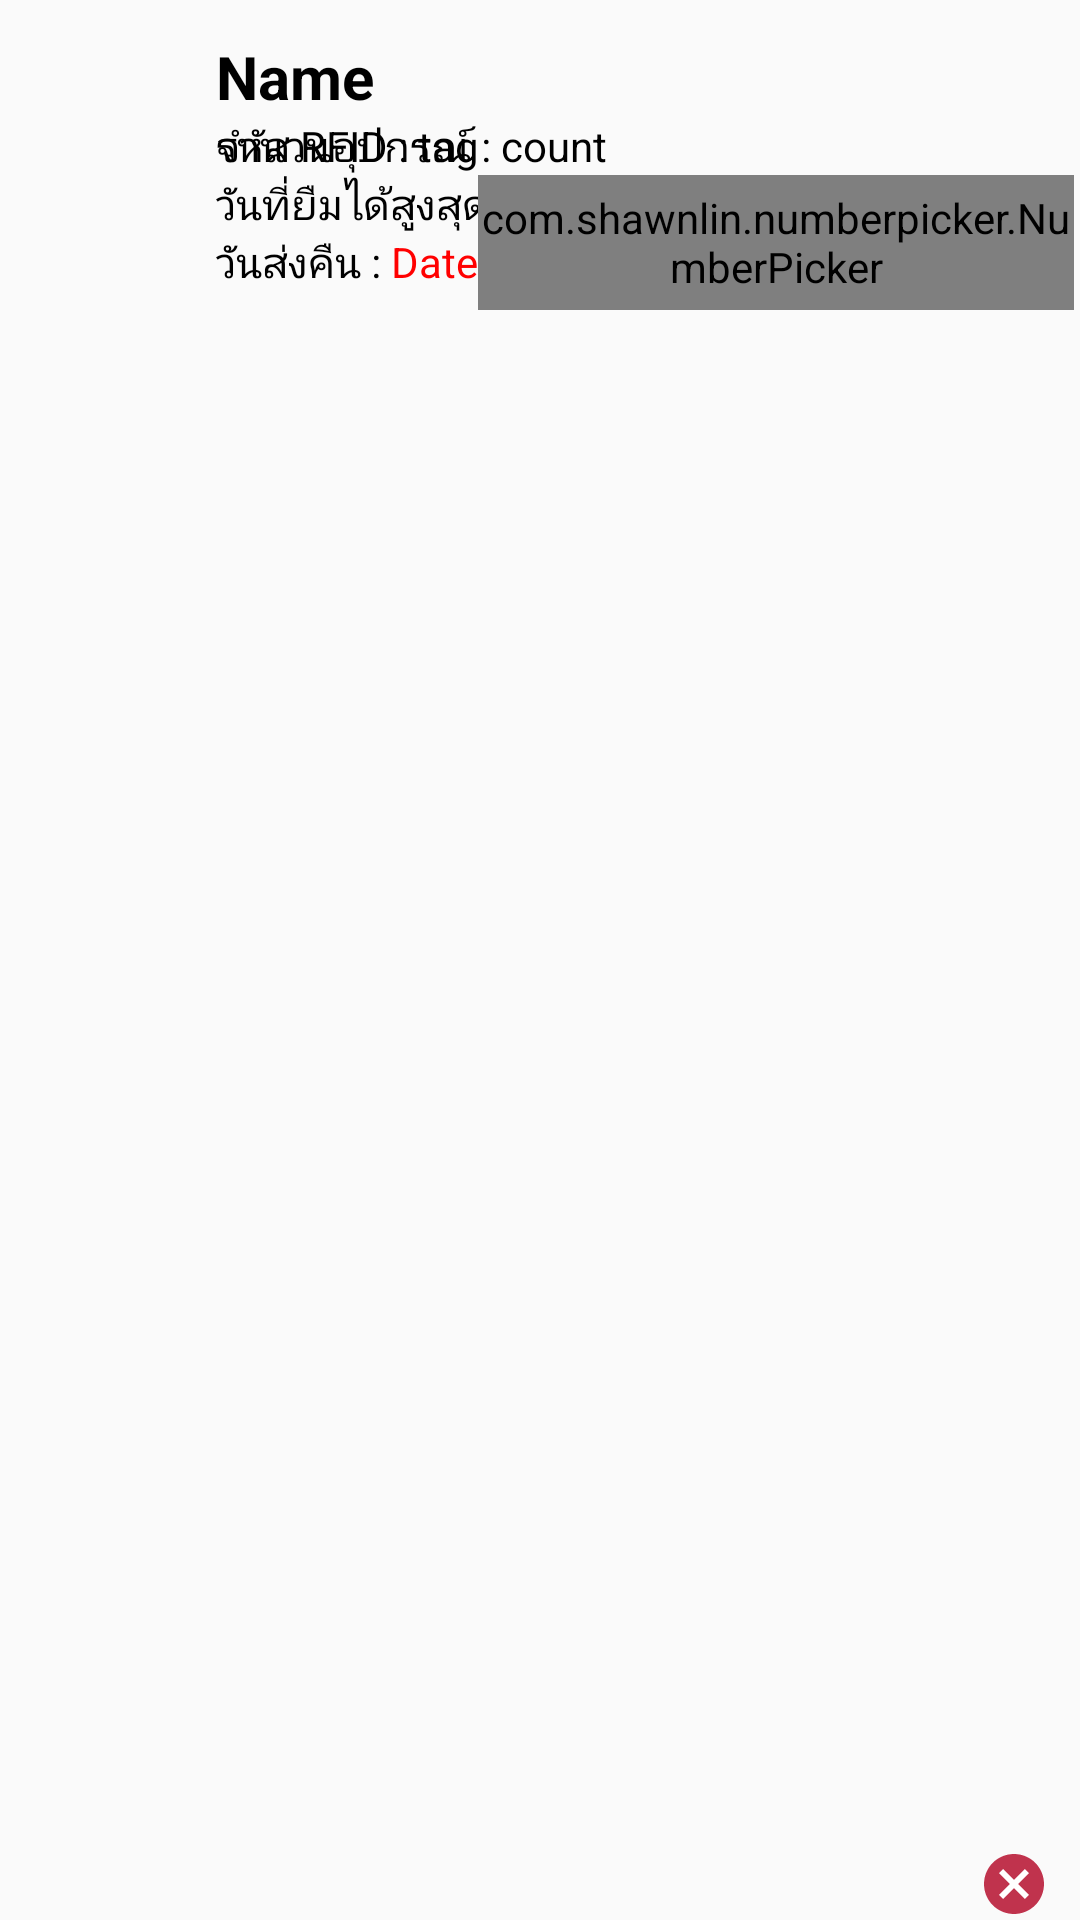

Where to tap for icons on this 1080×1920 app screen, as (x,y):
cancel: (1014,1884)
